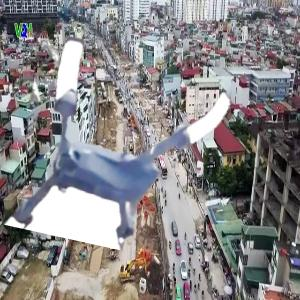drone: (22, 41, 232, 251)
